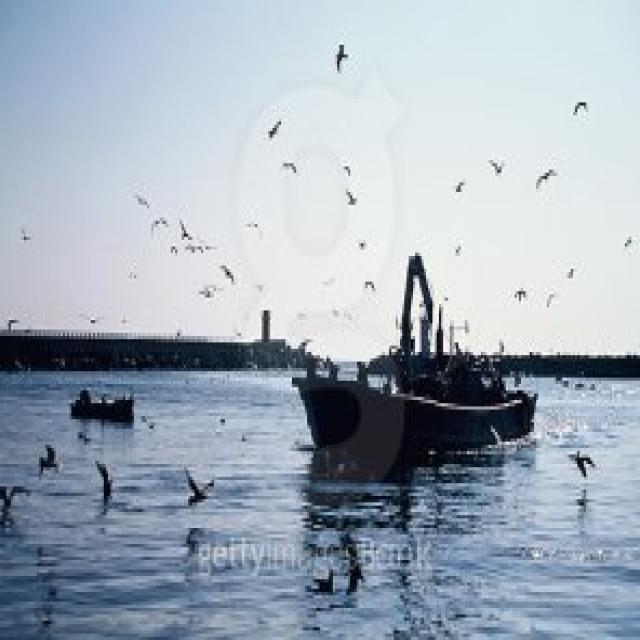Ship: (288, 244, 546, 478)
